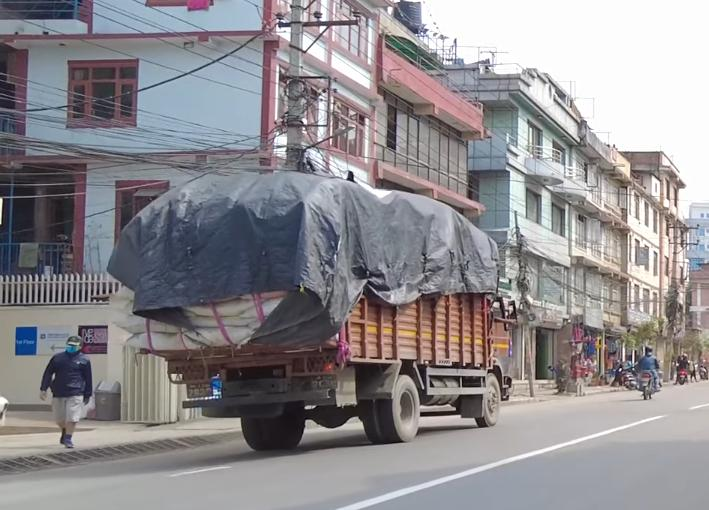truck: (106, 169, 518, 451)
